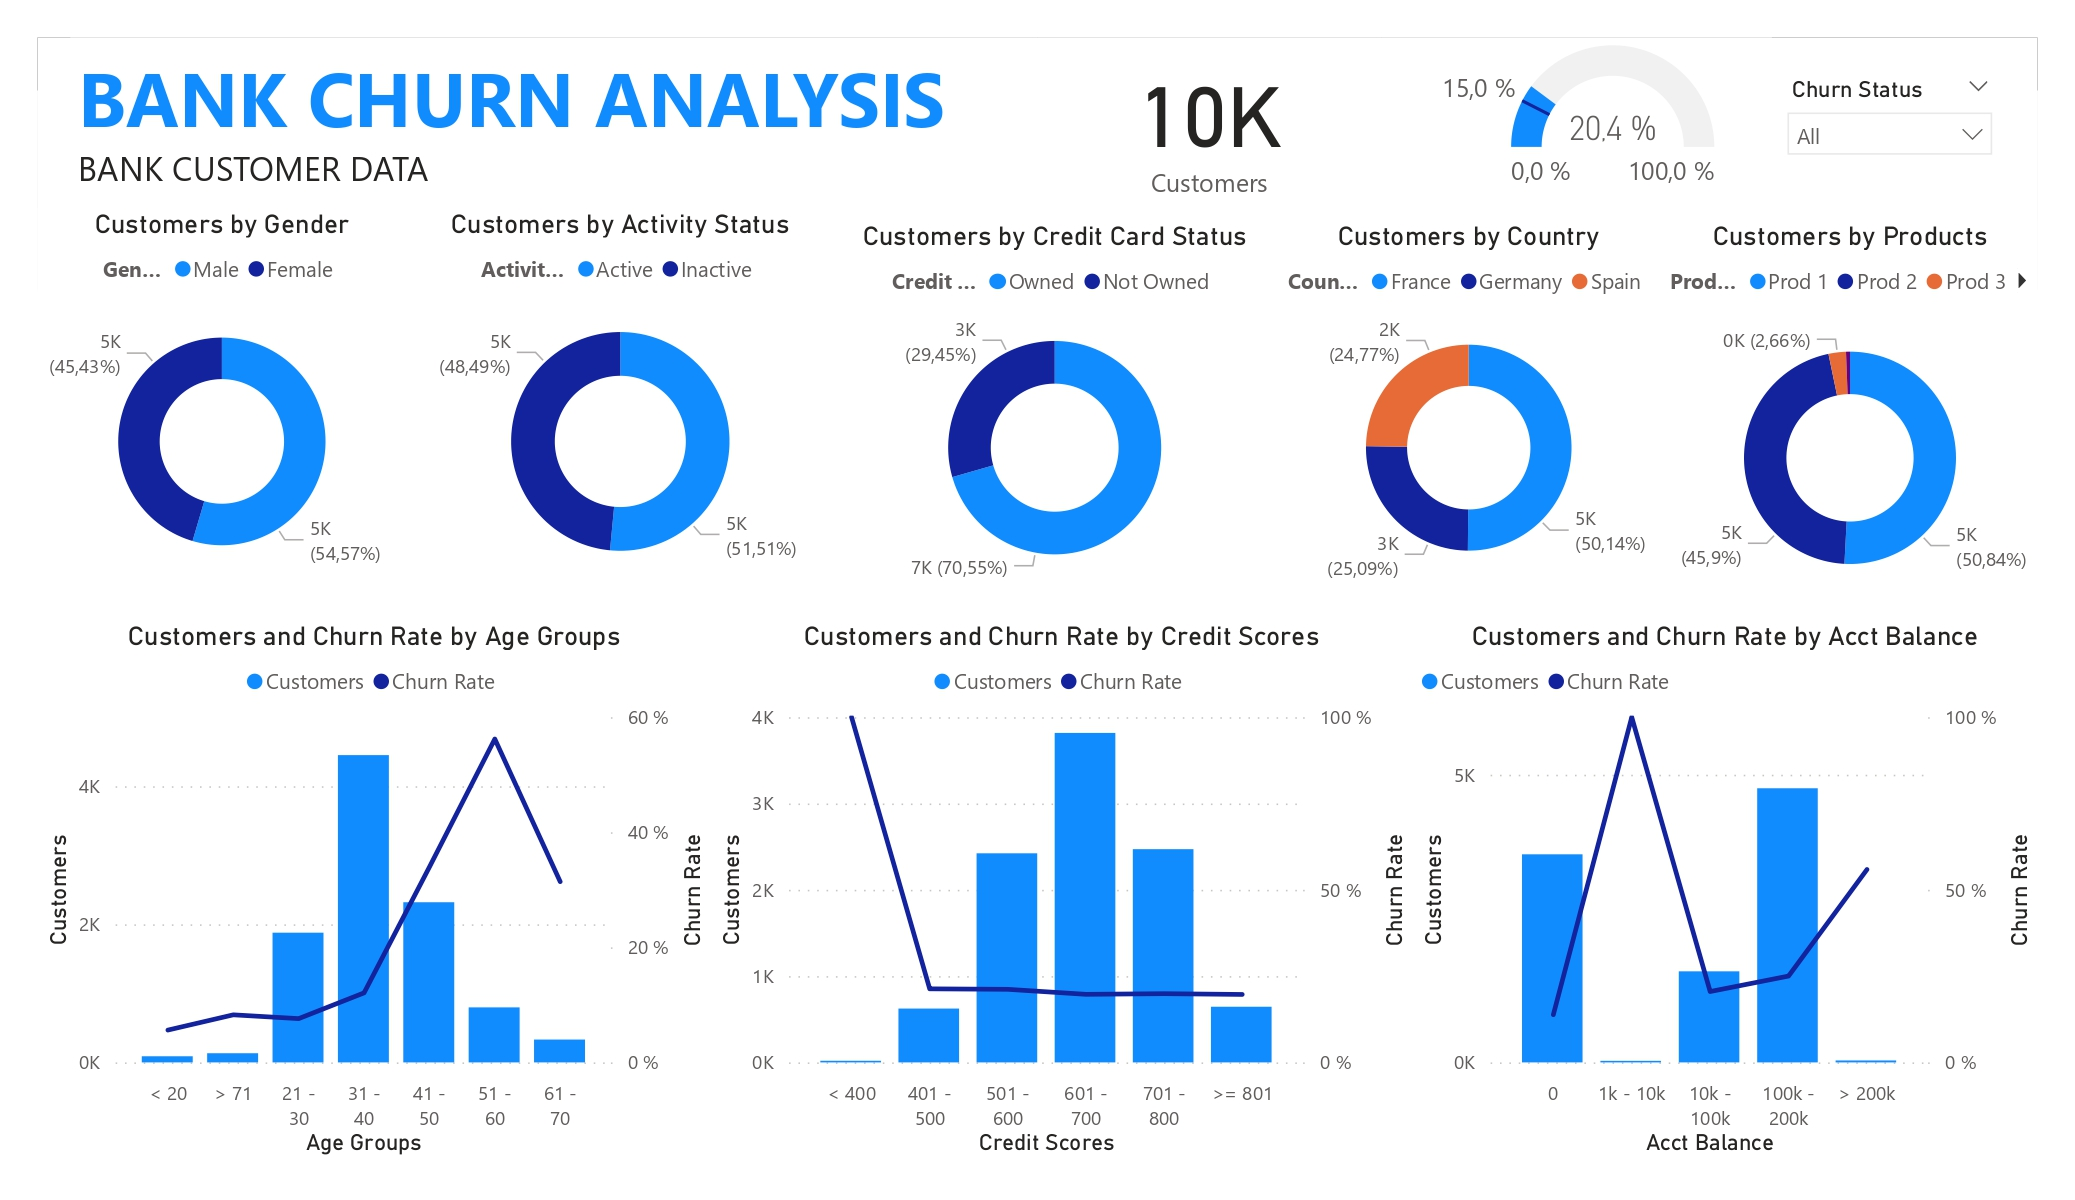

What the dashboard file says about the page in this screenshot:
{"tool":"powerbi","page":{"name":"Page 1","canvas":[1280,720],"ordinal":0},"visuals":[{"type":"card","fields":{"Values":["Costumer Data.Customers"]},"box":[639.5,0,220.2,108.7],"z":0},{"type":"donutChart","fields":{"Category":["Costumer Data.Gender"],"Y":["Costumer Data.Customers"]},"box":[0,108.7,235.8,251.3],"z":2000},{"type":"donutChart","fields":{"Y":["Costumer Data.Customers"],"Category":["Costumer Data.Activity Status"]},"box":[235.8,108.7,273.9,251.3],"z":3000},{"type":"donutChart","fields":{"Y":["Costumer Data.Customers"],"Category":["Costumer Data.Credit Card Status"]},"box":[509.6,117.2,282.4,242.8],"z":4000},{"type":"donutChart","fields":{"Y":["Costumer Data.Customers"],"Category":["Costumer Data.Country"]},"box":[792,117.2,248.5,242.8],"z":5000},{"type":"donutChart","fields":{"Y":["Costumer Data.Customers"],"Category":["Costumer Data.Products"]},"box":[1040.5,117.2,240,255.5],"z":6000},{"type":"lineClusteredColumnComboChart","fields":{"Category":["Age Groups.Age Groups"],"Y":["Costumer Data.Customers"],"Y2":["Costumer Data.Churn Rate"]},"box":[0,372.7,430.6,347.3],"z":7000},{"type":"lineClusteredColumnComboChart","fields":{"Y":["Costumer Data.Customers"],"Y2":["Costumer Data.Churn Rate"],"Category":["Credit Score Groups.Credit Scores"]},"box":[430.6,372.7,448.9,347.3],"z":8000},{"type":"lineClusteredColumnComboChart","fields":{"Category":["Acct Balance Groups.Acct Balance"],"Y":["Costumer Data.Customers"],"Y2":["Costumer Data.Churn Rate"]},"box":[879.5,372.7,400.9,347.3],"z":9000},{"type":"slicer","fields":{"Values":["Costumer Data.Churn Status"]},"box":[1109.6,19.8,151.1,69.2],"z":9001},{"type":"gauge","fields":{"Y":["Costumer Data.Churn Rate"],"TargetValue":["Max(Costumer Data.Target Churn Rate)"]},"box":[859.8,0,249.9,105.9],"z":9002},{"type":"textbox","box":[21.2,0,618.4,105.9],"z":9003}]}

Visuals, with their boxes in screenshot pixels (x1, y1, x2, y2):
card - Costumer Data.Customers: <region>1037, 38, 1381, 207</region>
donutChart - Costumer Data.Gender x Costumer Data.Customers: <region>38, 207, 406, 600</region>
donutChart - Costumer Data.Customers x Costumer Data.Activity Status: <region>406, 207, 834, 600</region>
donutChart - Costumer Data.Customers x Costumer Data.Credit Card Status: <region>834, 221, 1275, 600</region>
donutChart - Costumer Data.Customers x Costumer Data.Country: <region>1275, 221, 1663, 600</region>
donutChart - Costumer Data.Customers x Costumer Data.Products: <region>1663, 221, 2038, 620</region>
lineClusteredColumnComboChart - Age Groups.Age Groups x Costumer Data.Customers: <region>38, 620, 710, 1162</region>
lineClusteredColumnComboChart - Costumer Data.Customers x Costumer Data.Churn Rate: <region>710, 620, 1412, 1162</region>
lineClusteredColumnComboChart - Acct Balance Groups.Acct Balance x Costumer Data.Customers: <region>1412, 620, 2038, 1162</region>
slicer - Costumer Data.Churn Status: <region>1771, 68, 2007, 177</region>
gauge - Costumer Data.Churn Rate x Max(Costumer Data.Target Churn Rate): <region>1381, 38, 1771, 203</region>
textbox: <region>71, 38, 1037, 203</region>
